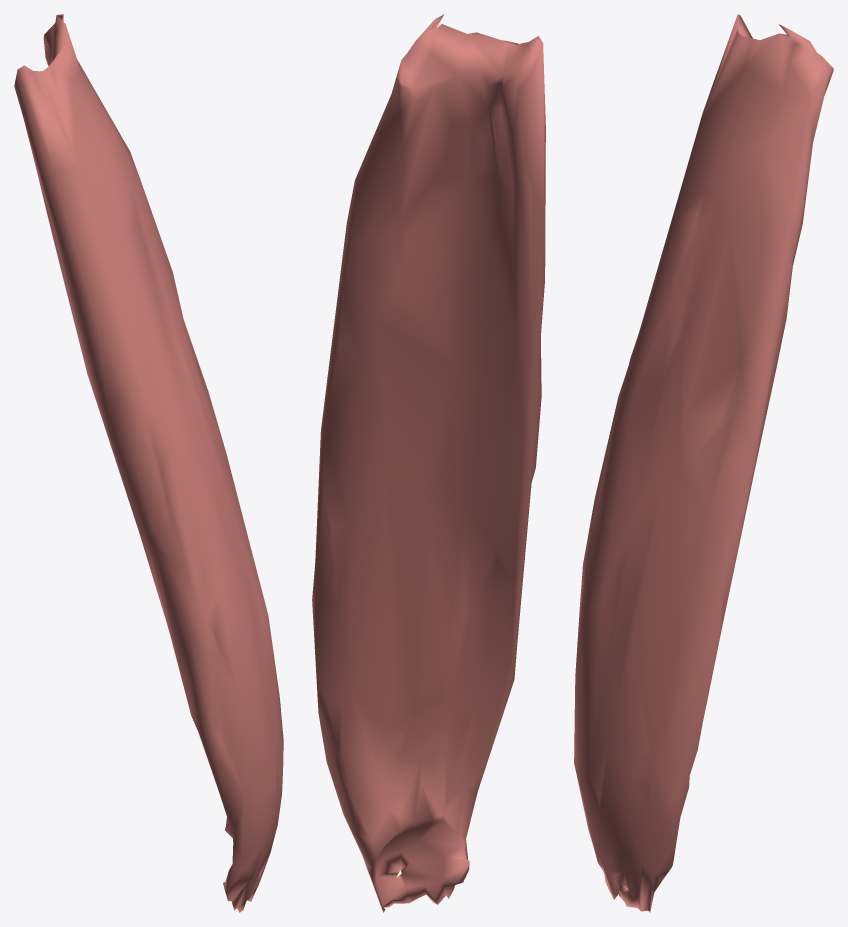
The picture shows the model from 3 angles, left to right: view 1: azimuth 30°, elevation 25°; view 2: azimuth 150°, elevation 25°; view 3: azimuth 270°, elevation 25°; orthographic projection. The views are drawn at different scales.
Visible parts, largest first — view 1: ZA_32a67b11196d3af4; view 2: ZA_32a67b11196d3af4; view 3: ZA_32a67b11196d3af4.
Boxes of the visible parts, x1,y1,x2,y2 form: ZA_32a67b11196d3af4: [14, 14, 283, 912]; ZA_32a67b11196d3af4: [312, 14, 545, 912]; ZA_32a67b11196d3af4: [574, 14, 833, 912].
Size of the model in its own units: 0.0182 by 0.067 by 0.019.
